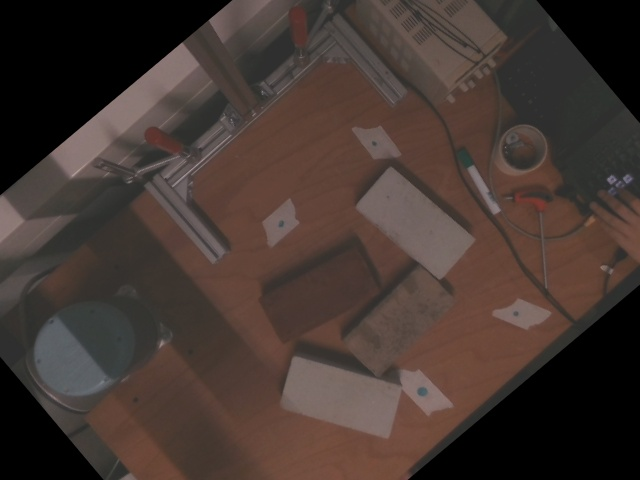brick: (356, 165, 475, 278), (345, 264, 457, 374), (259, 249, 382, 344), (280, 357, 401, 437)
